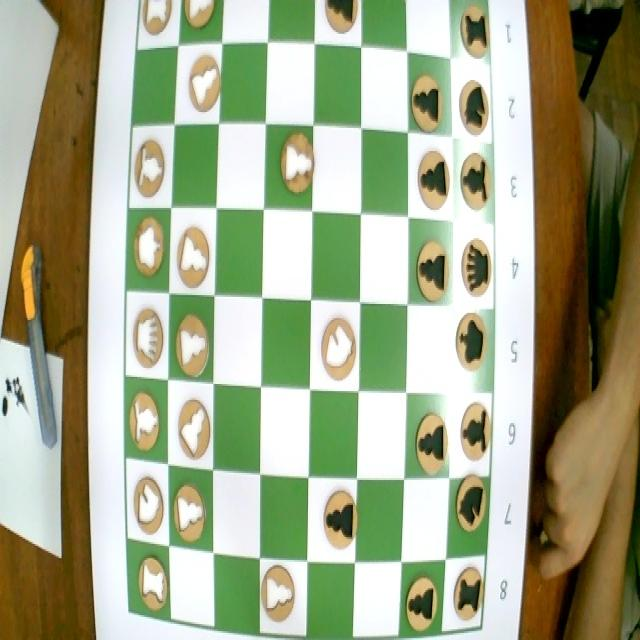chess-pieces: (315, 311, 361, 386), (170, 312, 213, 384), (410, 406, 449, 479), (415, 146, 454, 214), (128, 214, 168, 280), (174, 226, 212, 295), (280, 128, 316, 200), (125, 389, 163, 456), (186, 50, 222, 120), (175, 392, 212, 459), (457, 235, 495, 299), (172, 483, 210, 546), (459, 149, 494, 217), (132, 303, 166, 373), (416, 237, 450, 305), (452, 310, 488, 374), (454, 78, 491, 140), (131, 476, 168, 538), (322, 490, 360, 550), (260, 564, 298, 624), (457, 399, 492, 463), (133, 551, 169, 613), (133, 138, 168, 201), (410, 70, 443, 136), (406, 571, 440, 631), (458, 7, 494, 63), (453, 477, 487, 534), (452, 563, 485, 621), (320, 0, 360, 47), (140, 0, 174, 37), (183, 0, 218, 33)
